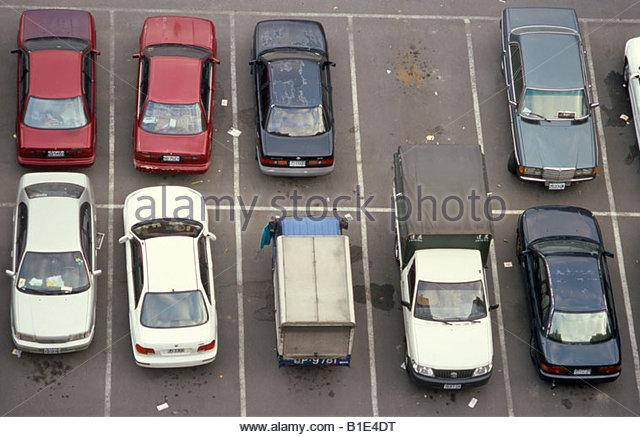car: (341, 11, 500, 209), (68, 16, 196, 186), (119, 182, 237, 350), (7, 167, 103, 356), (132, 19, 226, 179), (14, 11, 109, 163)
